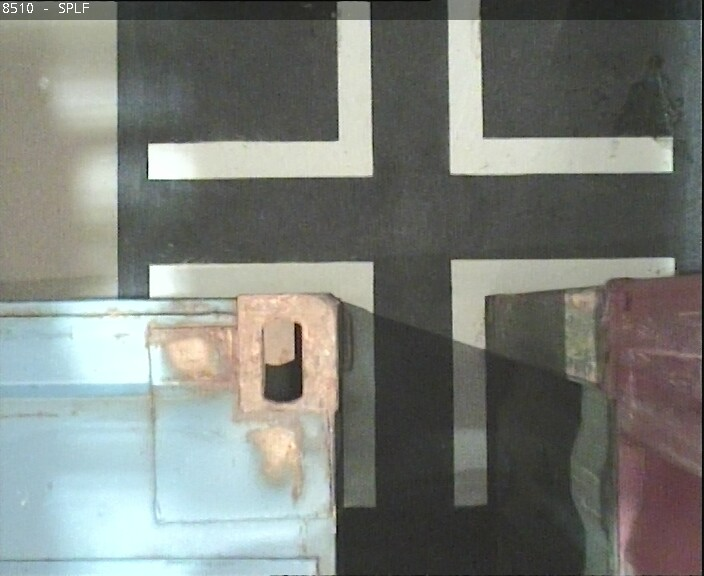groundmarker_1: (146, 261, 675, 509), (147, 1, 673, 178)
